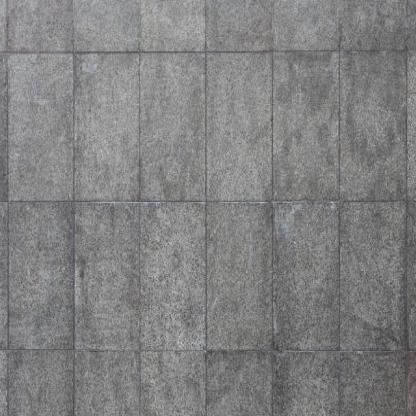Sedimentary_Sandstone: (201, 190, 277, 348), (137, 49, 213, 206), (270, 191, 345, 347), (74, 45, 145, 204), (6, 48, 79, 201), (337, 49, 411, 198), (340, 193, 410, 350), (8, 196, 80, 347), (139, 193, 208, 346), (74, 190, 140, 348), (205, 52, 274, 198), (273, 52, 337, 202)
